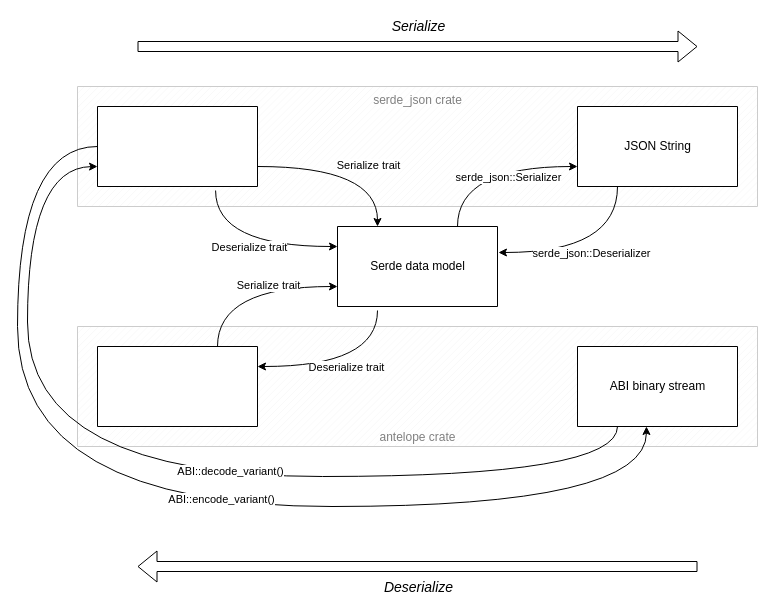
Image size: 775x612. Some labels were removed from this diagram. Here are the shapes that lost their labels. From the top down, the centre of each, then its label:
pixel 177 146: JSON Value
pixel 177 386: Antelope value
